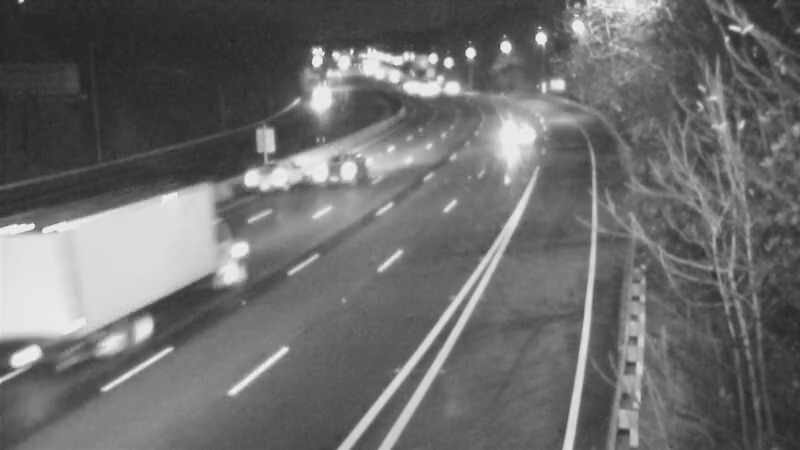vehicle: (1, 250, 103, 360), (298, 131, 378, 211), (235, 131, 315, 211), (429, 61, 479, 111), (486, 124, 536, 174)
